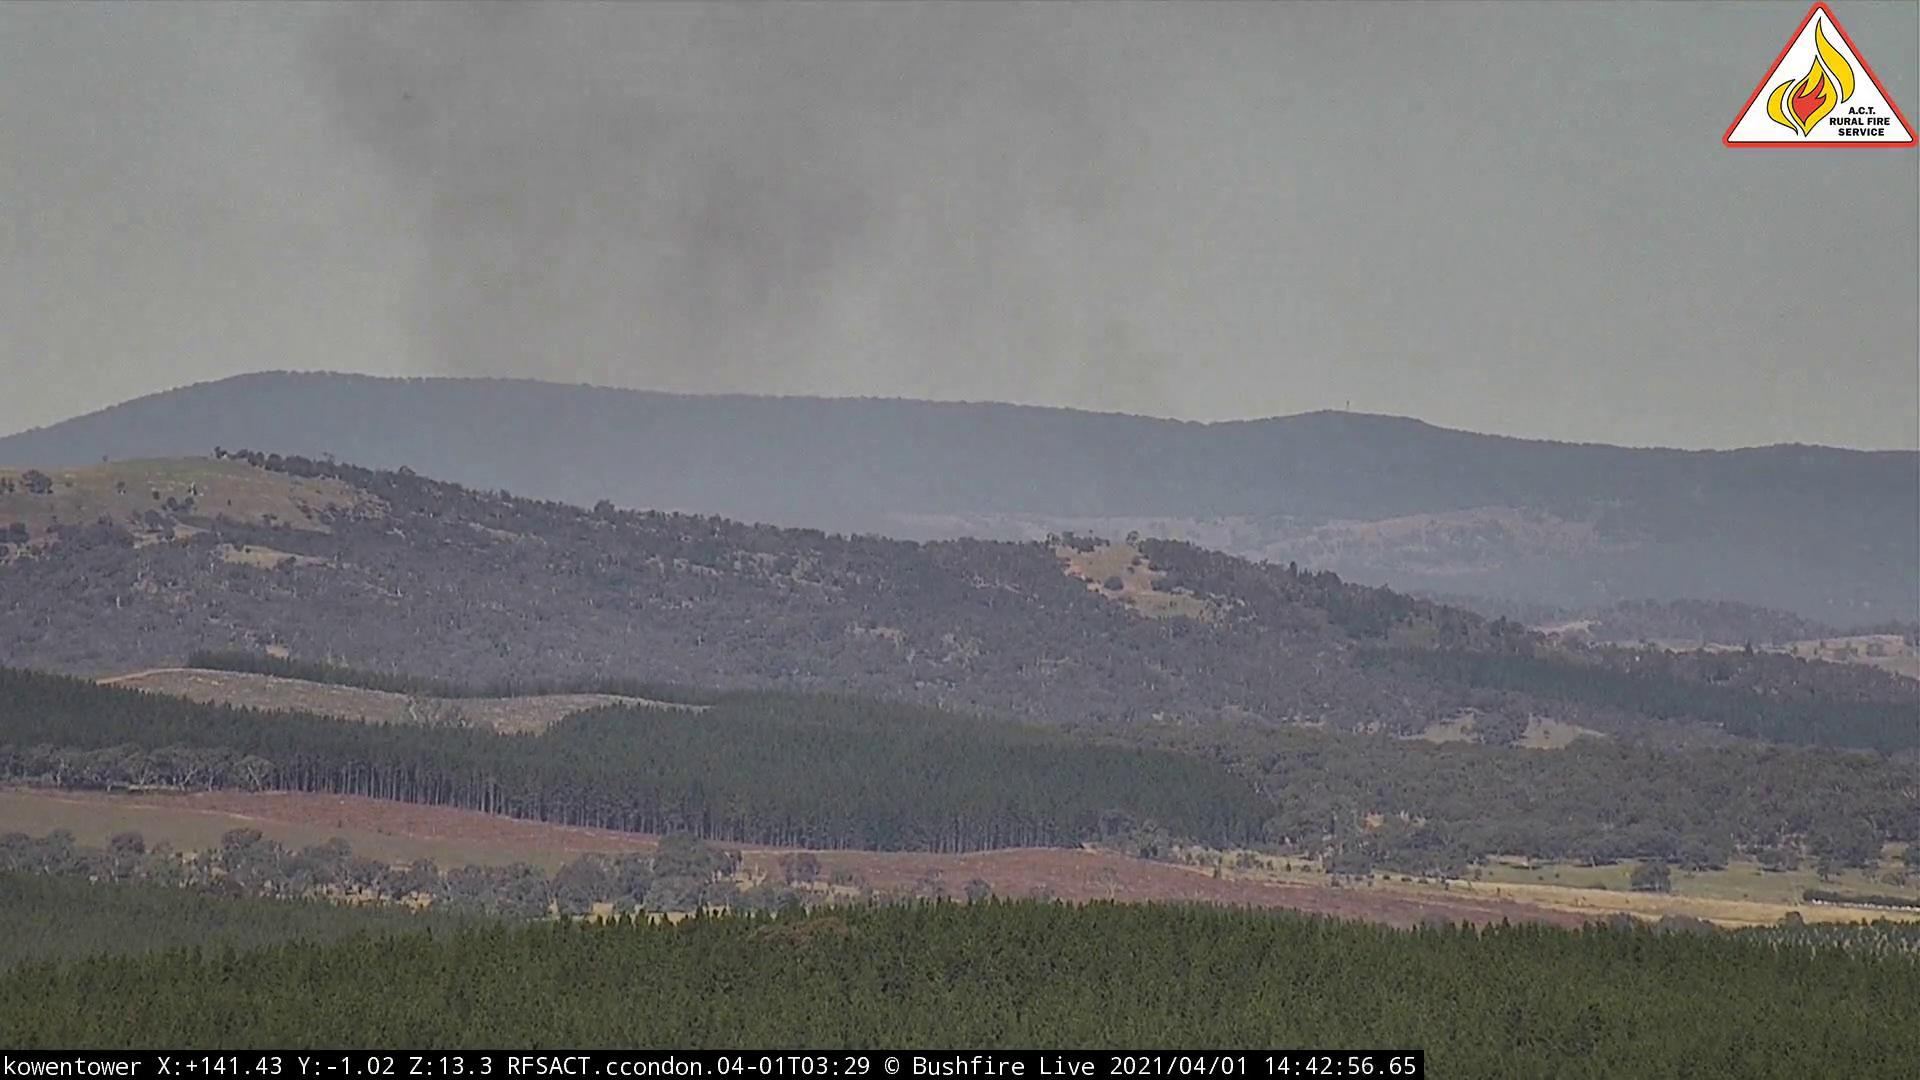Smoke: (255, 3, 1180, 469)
